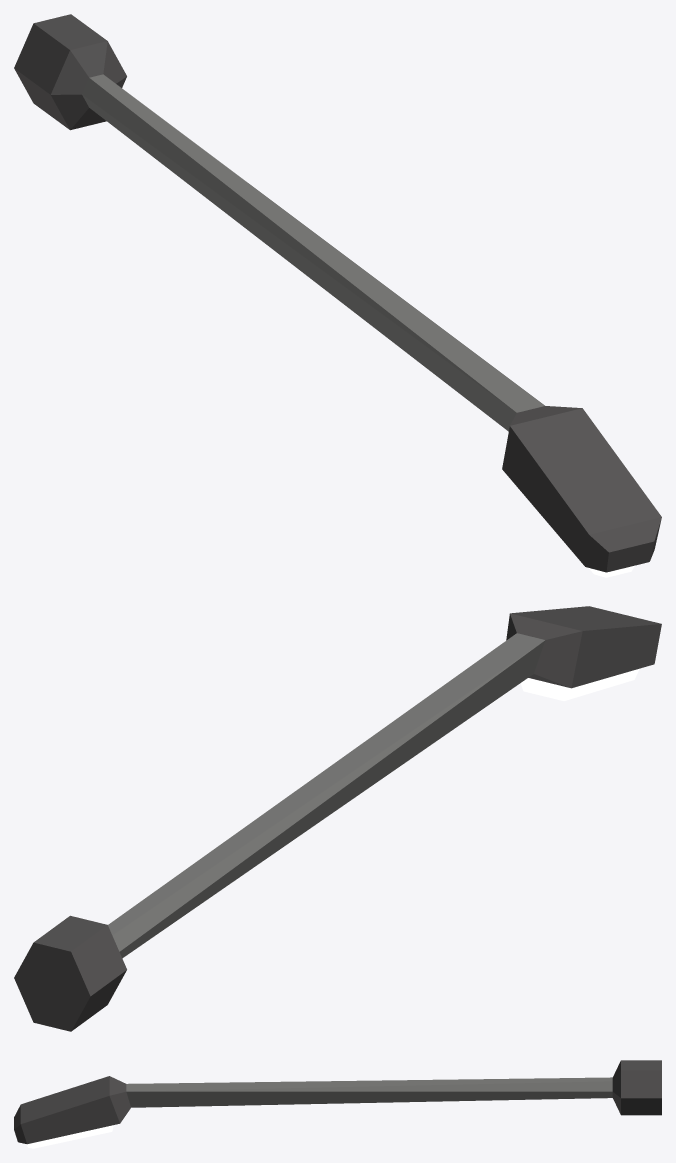
The model's file is SM_Prop_Light_Attachment_01.fbx.
3 views of the same model, one above another, from view 1: azimuth 30°, elevation 25°; view 2: azimuth 150°, elevation 25°; view 3: azimuth 270°, elevation 25° (orthographic). The views are drawn at different scales.
Visible parts, largest first — view 1: SM_Prop_Light_Attachment_01; view 2: SM_Prop_Light_Attachment_01; view 3: SM_Prop_Light_Attachment_01.
Boxes of the visible parts, left/top/right/bottom form: SM_Prop_Light_Attachment_01: left=14, top=14, right=661, bottom=577; SM_Prop_Light_Attachment_01: left=14, top=606, right=661, bottom=1031; SM_Prop_Light_Attachment_01: left=14, top=1060, right=661, bottom=1148.
Bounding box in the file's own units: 20.28 × 35.76 × 266.
